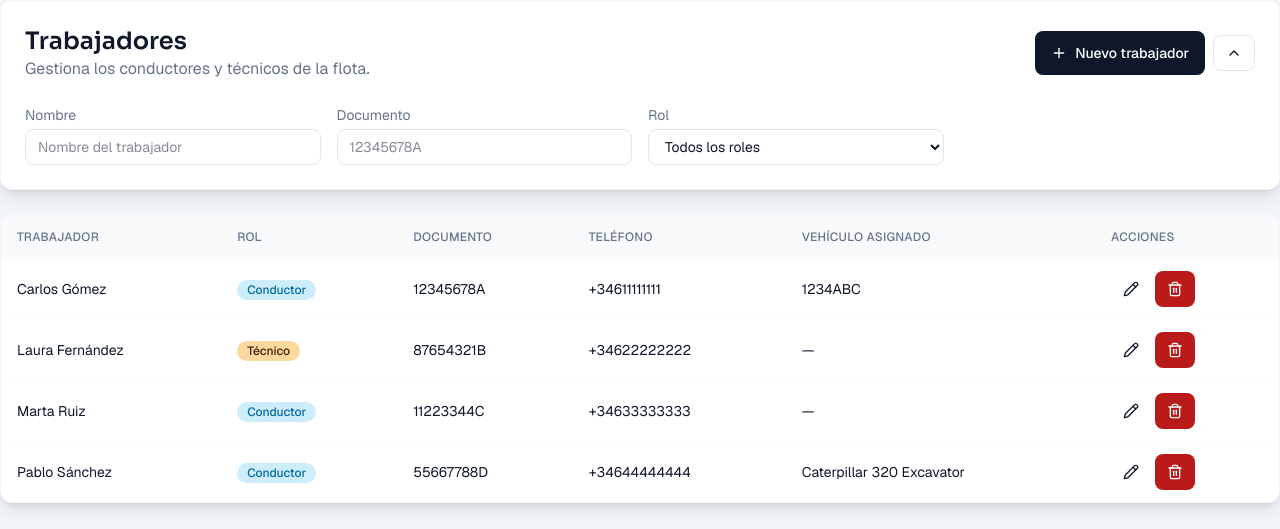
Scenario: Workers › narrows the worker list with the document filter
The image size is (1280, 529).
Expected: the text "Carlos Gómez" is shown, [1,259,221,320]
Type "1234" into the field named "buscar por documento" at point(484, 147), box [336,129,632,165]
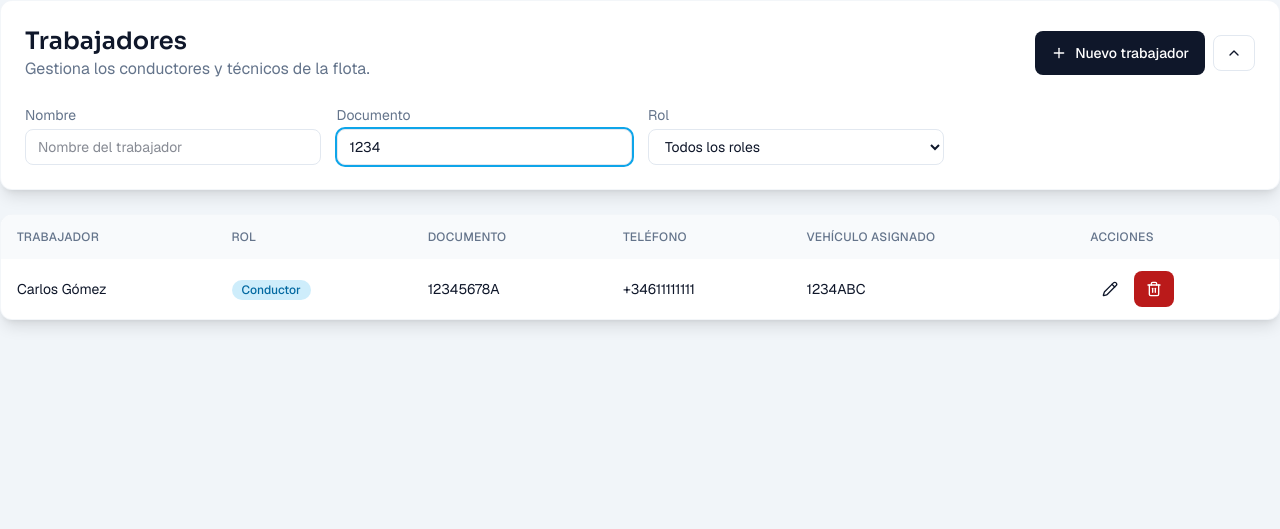
Expected: the text "Carlos Gómez" is shown, [1,259,216,319]
Result: the text "Laura Fernández" is gone
